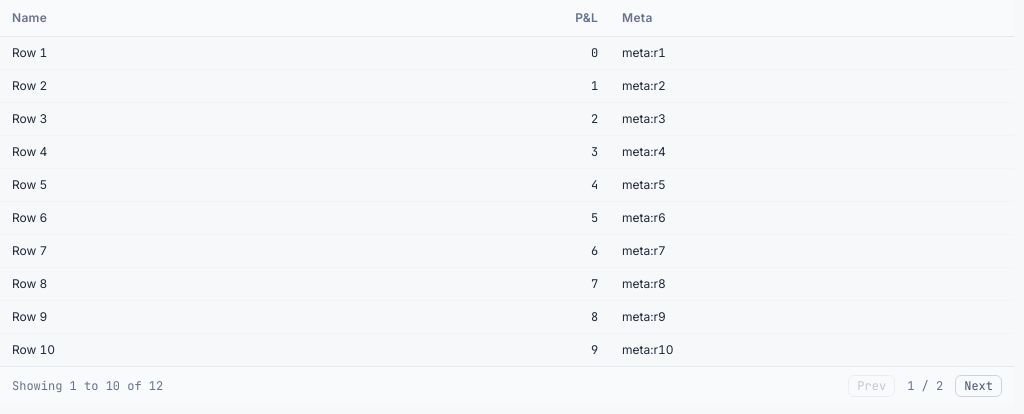
Test: DataTable › paginates and disables Prev on the first page
Expected: the text "Showing 1 to 10 of 12" is shown, x1=12 y1=378 x2=163 y2=394
Expected: the button "Prev" is disabled, x1=848 y1=375 x2=895 y2=397
Click the button "Next": point(979, 386) x1=955 y1=375 x2=1002 y2=397
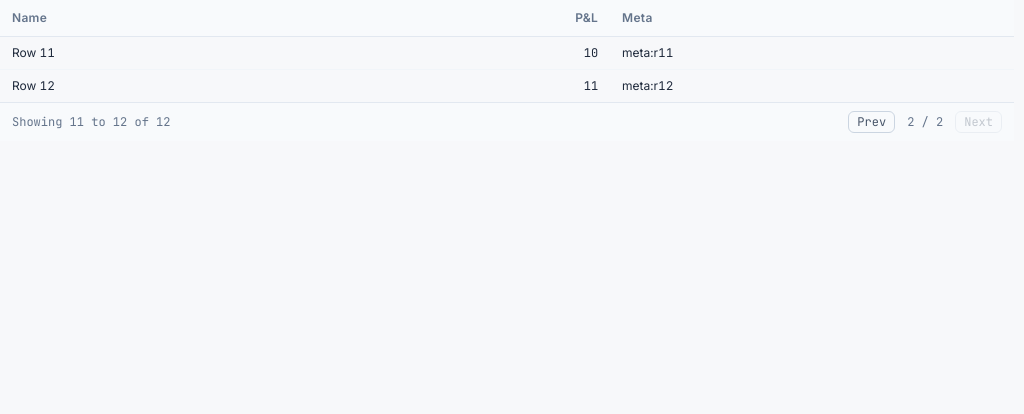
Expected: the text "Showing 11 to 12 of 12" is shown, x1=12 y1=114 x2=170 y2=130
Expected: the text "Row 11" is shown, x1=0 y1=36 x2=359 y2=70
Expected: the button "Next" is disabled, x1=955 y1=111 x2=1002 y2=133
